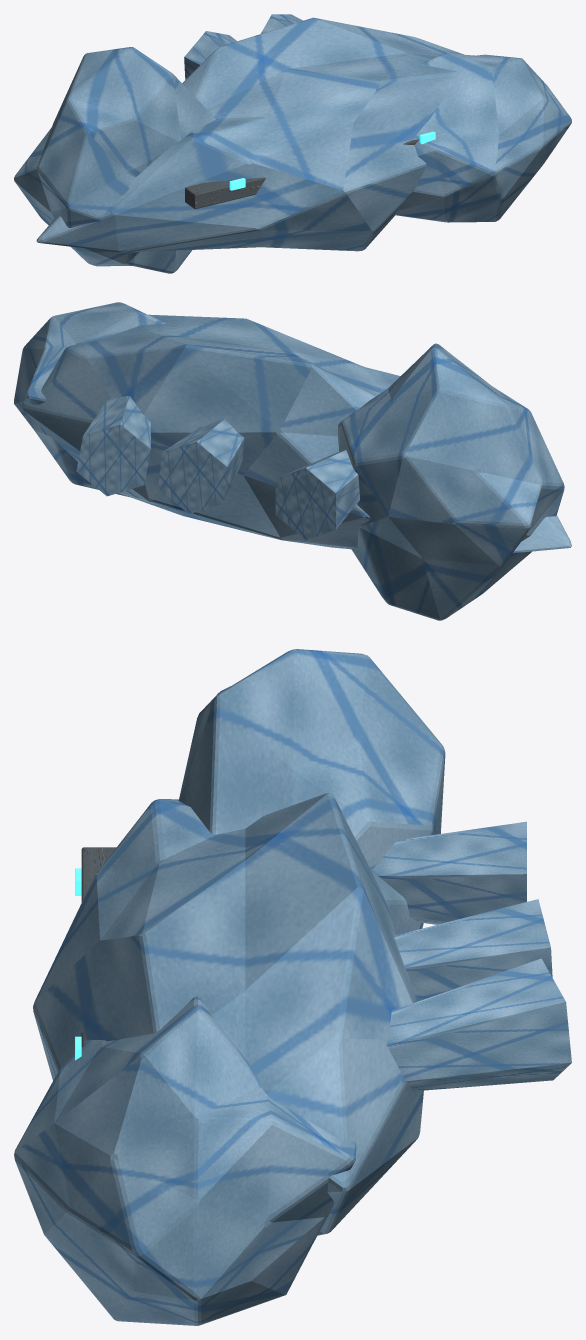
The model's file is glacier_berm.glb.
The picture shows the model from 3 angles, top to bottom: view 1: azimuth 30°, elevation 25°; view 2: azimuth 150°, elevation 25°; view 3: azimuth 270°, elevation 25°; orthographic projection. The views are drawn at different scales.
Visible parts, largest first — view 1: BermCore, BermLeft, BermRight, FrozenCableTray, BermShard_1, BermShard_2; view 2: BermCore, BermLeft, BermRight, BermShard_1, BermShard_2, BermShard_0; view 3: BermCore, BermRight, BermLeft, BermShard_2, BermShard_0, BermShard_1, FrozenCableTray.
Part boxes in pixels (x1,y1,x2,y2): BermCore: (36,17,463,252); BermLeft: (14,47,215,273); BermRight: (394,53,571,222); FrozenCableTray: (185,139,419,209); BermShard_1: (184,31,236,79); BermShard_2: (261,14,302,33); BermCore: (22,314,571,553); BermLeft: (338,343,564,620); BermRight: (14,302,165,496); BermShard_1: (158,419,244,513); BermShard_2: (76,395,150,496); BermShard_0: (275,450,360,540); BermCore: (33,793,423,1235); BermRight: (14,996,356,1325); BermLeft: (178,649,445,869); BermShard_2: (386,958,571,1091); BermShard_0: (372,821,526,924); BermShard_1: (394,899,552,1001); FrozenCableTray: (81,847,116,1046).
Bounding box in the file's own units: 6.28 × 2.66 × 3.31.
4 materials, 4 textured.
